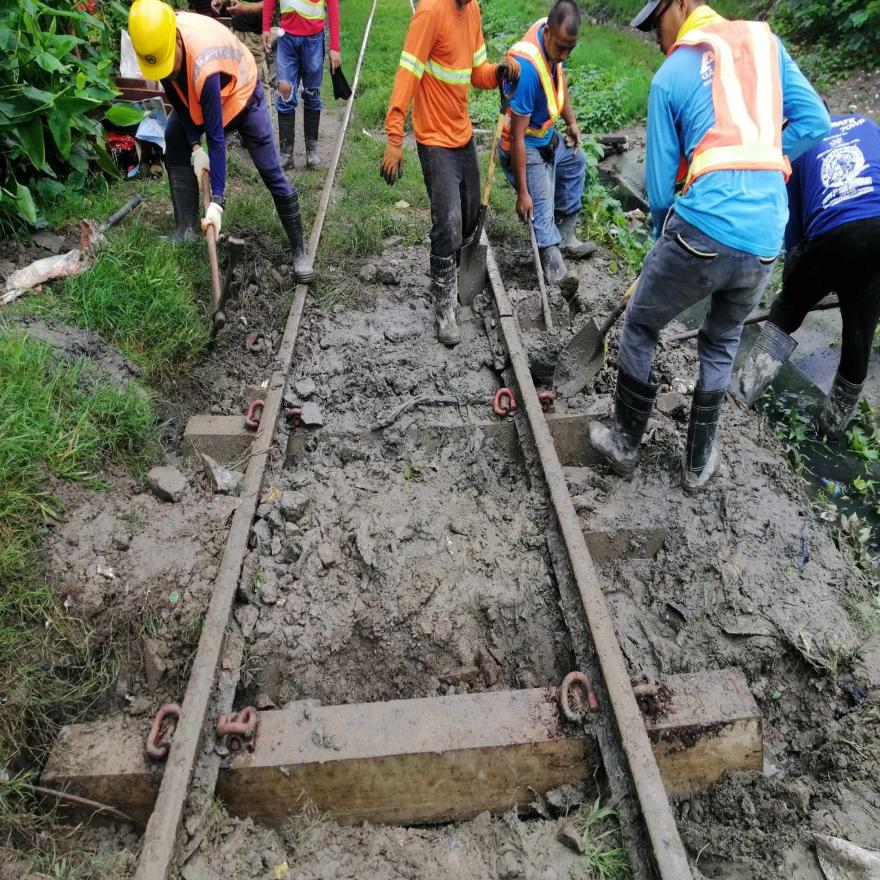railway-gap: (485, 293, 530, 344)
